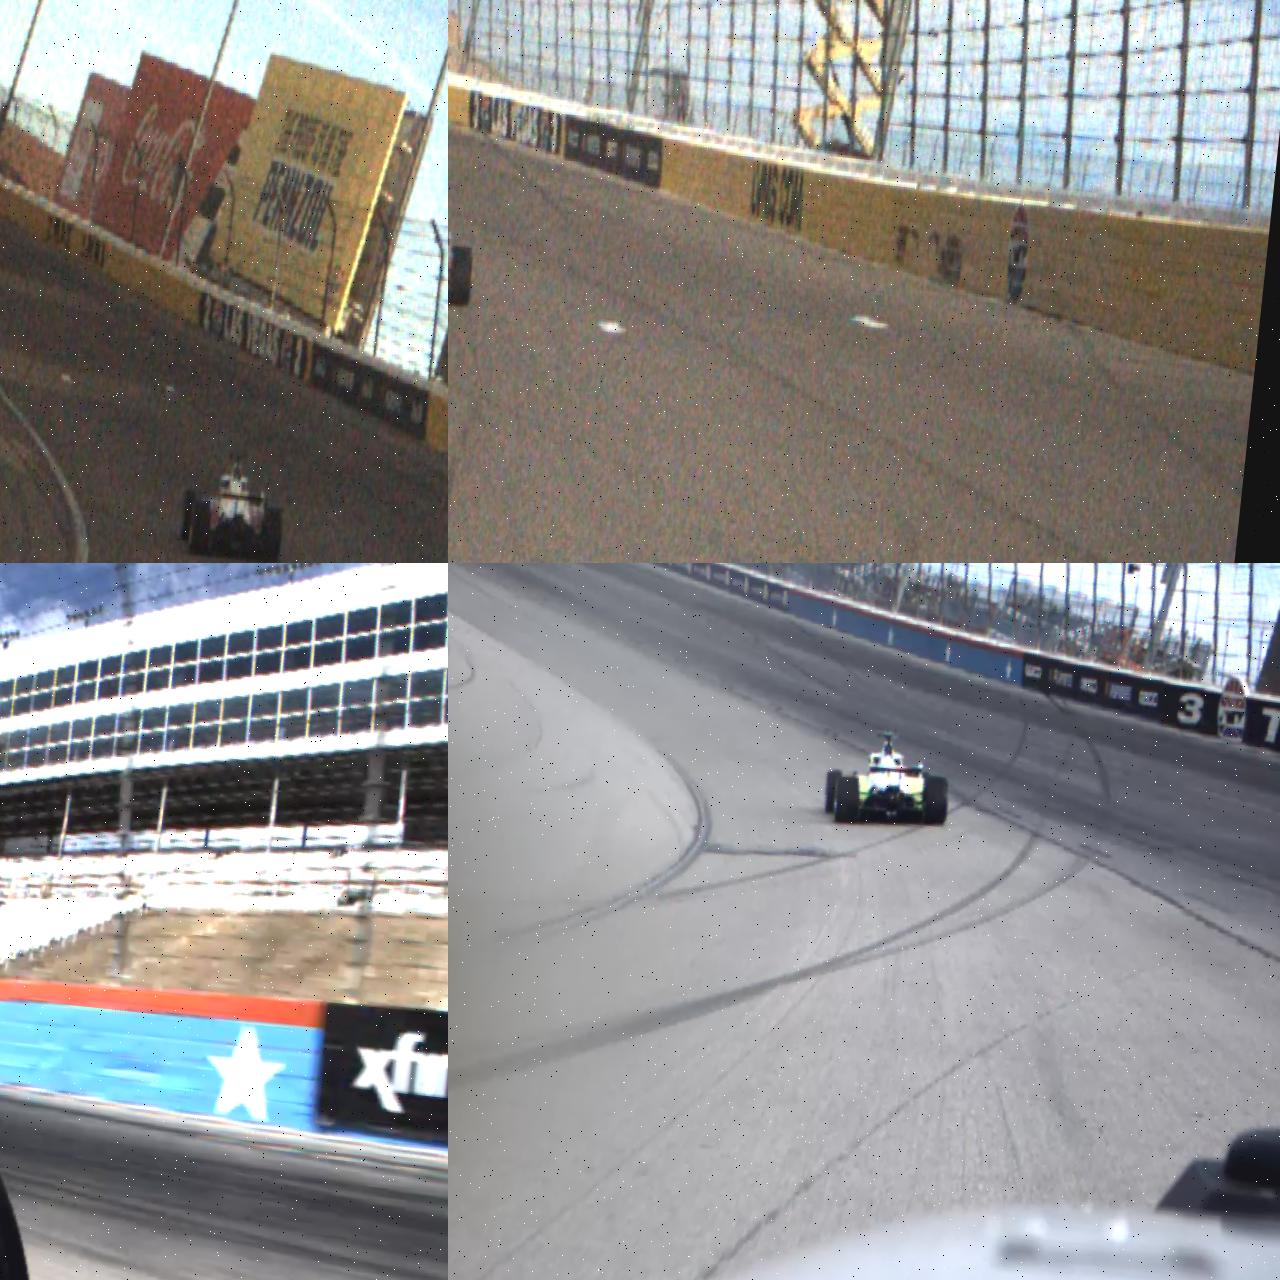AV: (822, 724, 955, 835), (176, 445, 291, 563), (448, 197, 478, 319)
Wheel: (449, 245, 475, 308), (919, 775, 951, 826), (188, 501, 213, 558), (832, 776, 862, 825), (260, 508, 285, 563), (178, 488, 198, 542), (824, 769, 843, 816)
